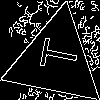T: (31, 34, 80, 74)
